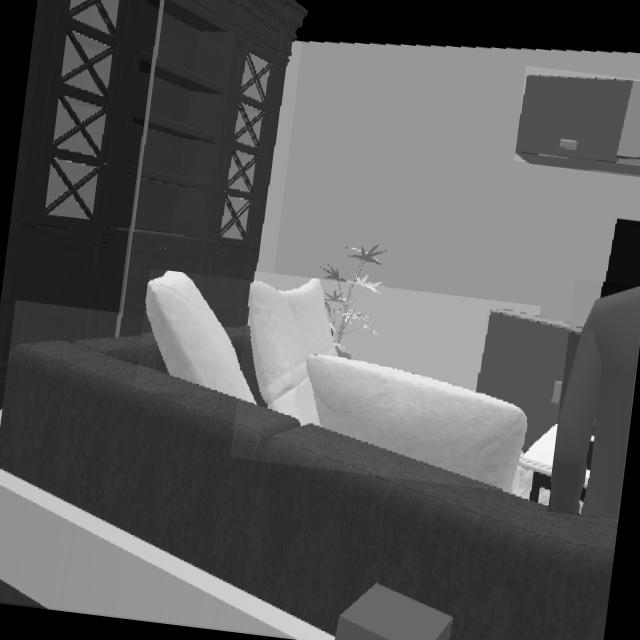bookshelf: (120, 0, 305, 334)
cabinet: (477, 312, 583, 448), (516, 76, 640, 176)
person: (551, 286, 640, 520)
pillow: (249, 279, 526, 490), (148, 271, 253, 401)
sofa: (0, 328, 617, 640)
